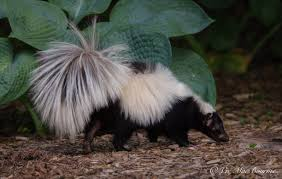skunk: (31, 19, 231, 147)
